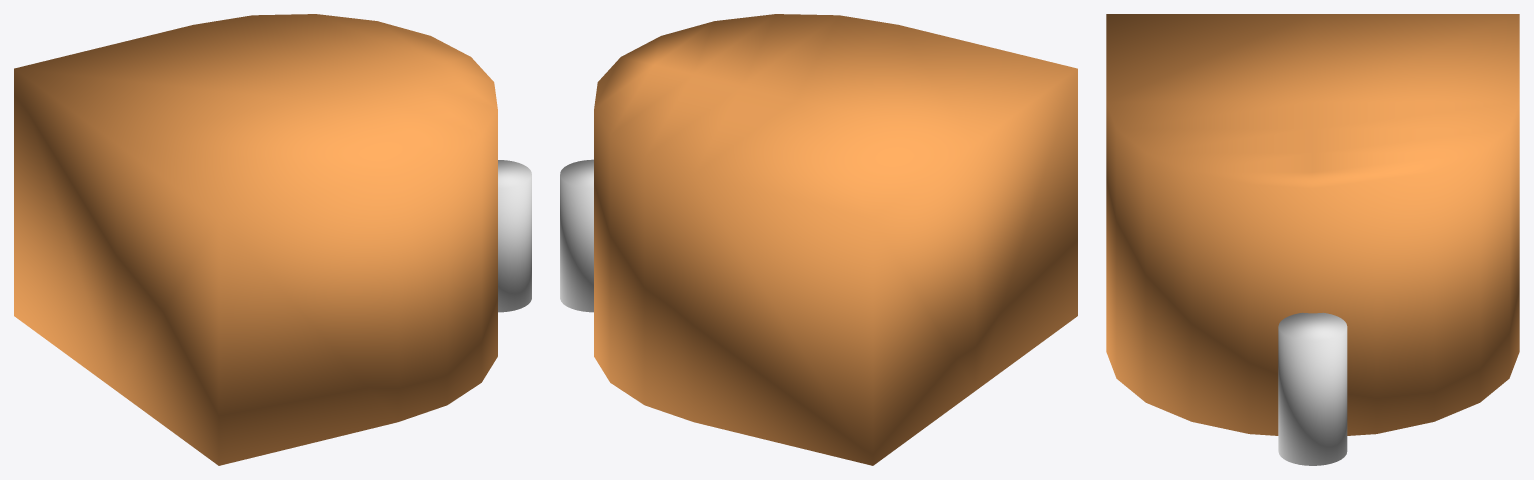
The model's file is NAND-transformed.glb.
The picture shows the model from 3 angles, left to right: view 1: azimuth 30°, elevation 25°; view 2: azimuth 150°, elevation 25°; view 3: azimuth 270°, elevation 25°; orthographic projection.
Visible parts, largest first — view 1: 2, Cot2; view 2: 2, Cot2; view 3: 2, Cot2.
Boxes of the visible parts, <box> form: 2: <box>14,14,497,465</box>; Cot2: <box>498,160,531,312</box>; 2: <box>594,14,1077,465</box>; Cot2: <box>560,159,593,312</box>; 2: <box>1106,14,1519,435</box>; Cot2: <box>1278,312,1347,465</box>.
Bounding box in the file's own units: 3.48 × 2 × 3.
